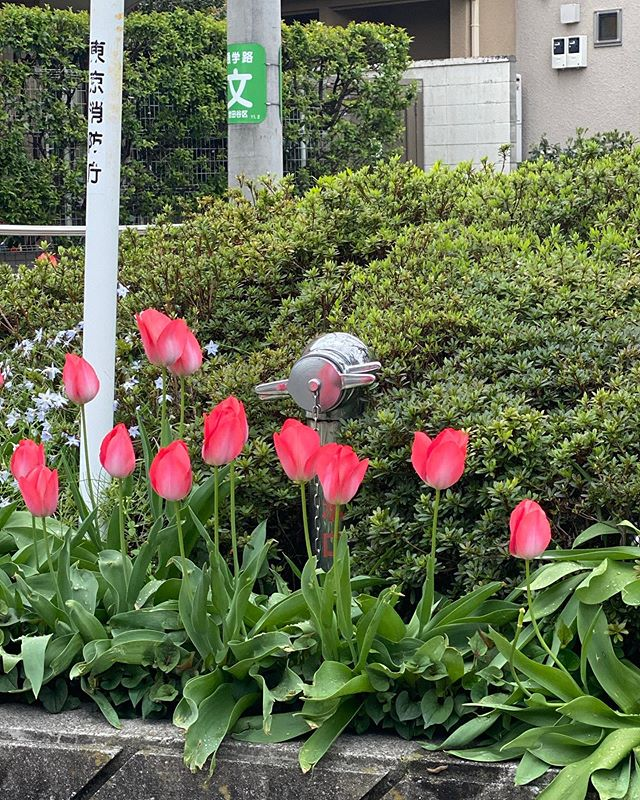flowers: (4, 301, 621, 594)
vegetation: (173, 145, 640, 446)
